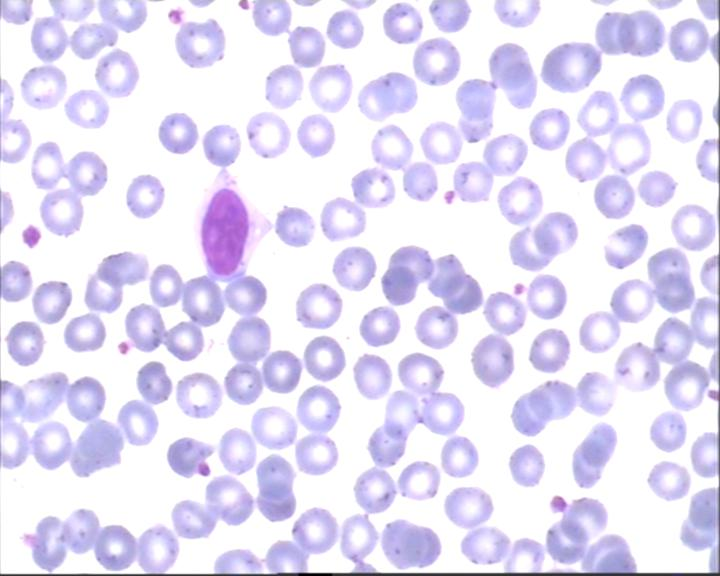mono: (187, 155, 276, 284)
